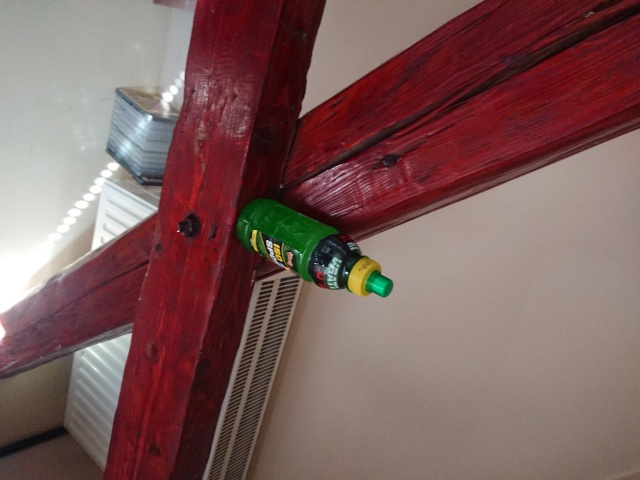Vindi Iso Sport Lemon-Grapefruit 500mL: (233, 196, 395, 300)
